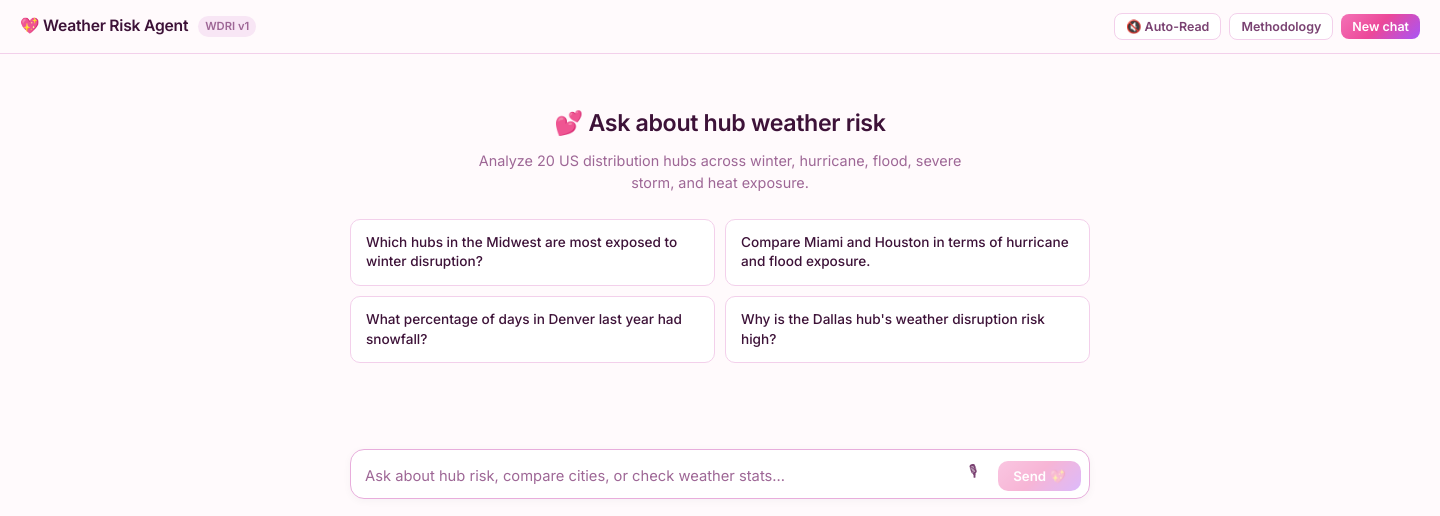
Test case: Voice input/output UI integration › populates composer textarea via microphone dictation and submits
Later steps or results of the test are not shown.
Click the button named "start voice input" at coordinates (973, 474), box [956,457,990,491]
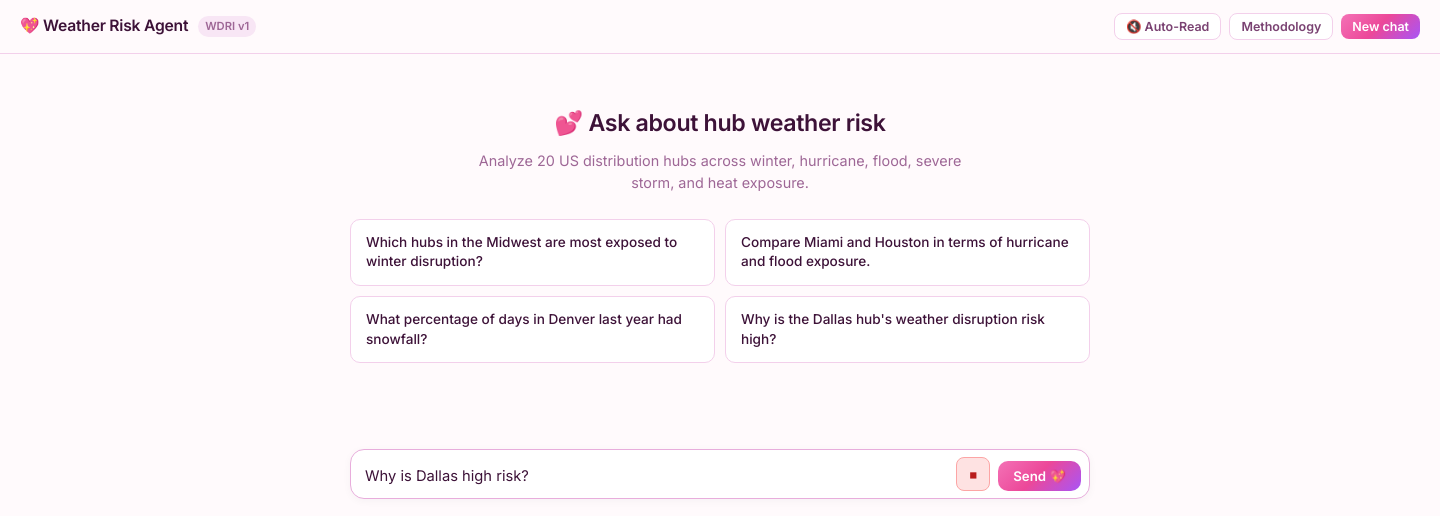
Check: the text box holds "Why is Dallas high risk?", box [365,461,948,491]
